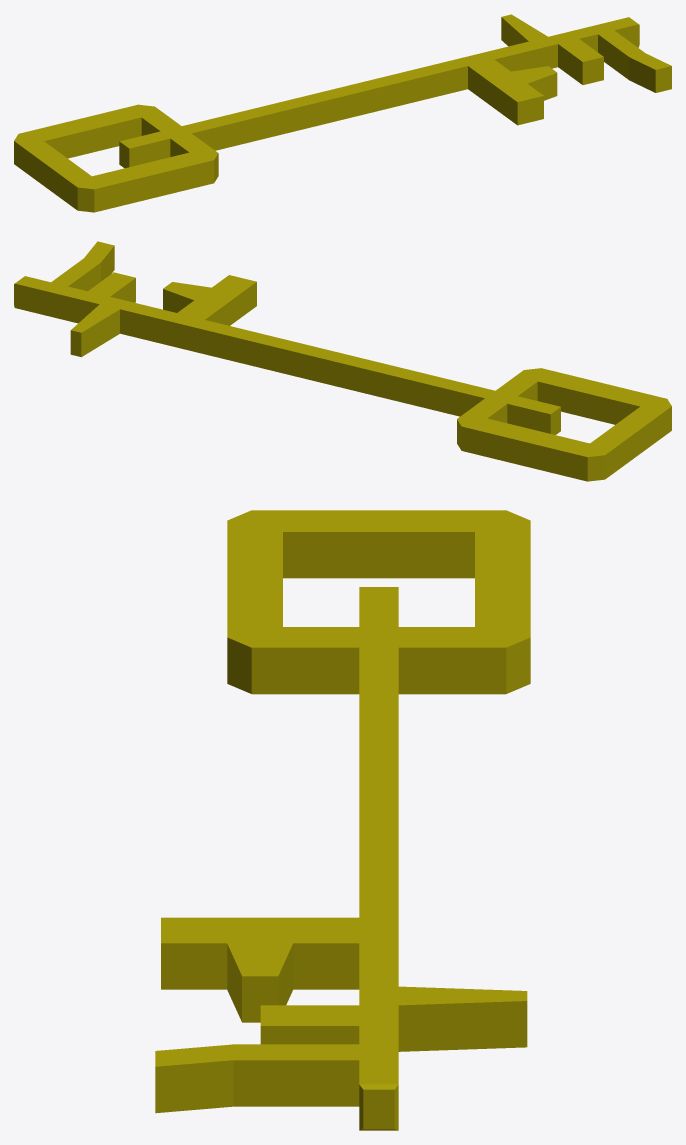
Rendered from Key1.fbx.
3 renders of one model, top to bottom at view 1: azimuth 30°, elevation 25°; view 2: azimuth 150°, elevation 25°; view 3: azimuth 270°, elevation 25°, orthographic. The views are drawn at different scales.
Parts seen in each view (by area): view 1: Key; view 2: Key; view 3: Key.
Boxes of the visible parts, box(x1,y1,x2,y2) form: Key: box(14, 14, 671, 212); Key: box(14, 241, 671, 481); Key: box(155, 510, 530, 1130).
Bounding box in the file's own units: 52.44 × 1.97 × 14.45.
